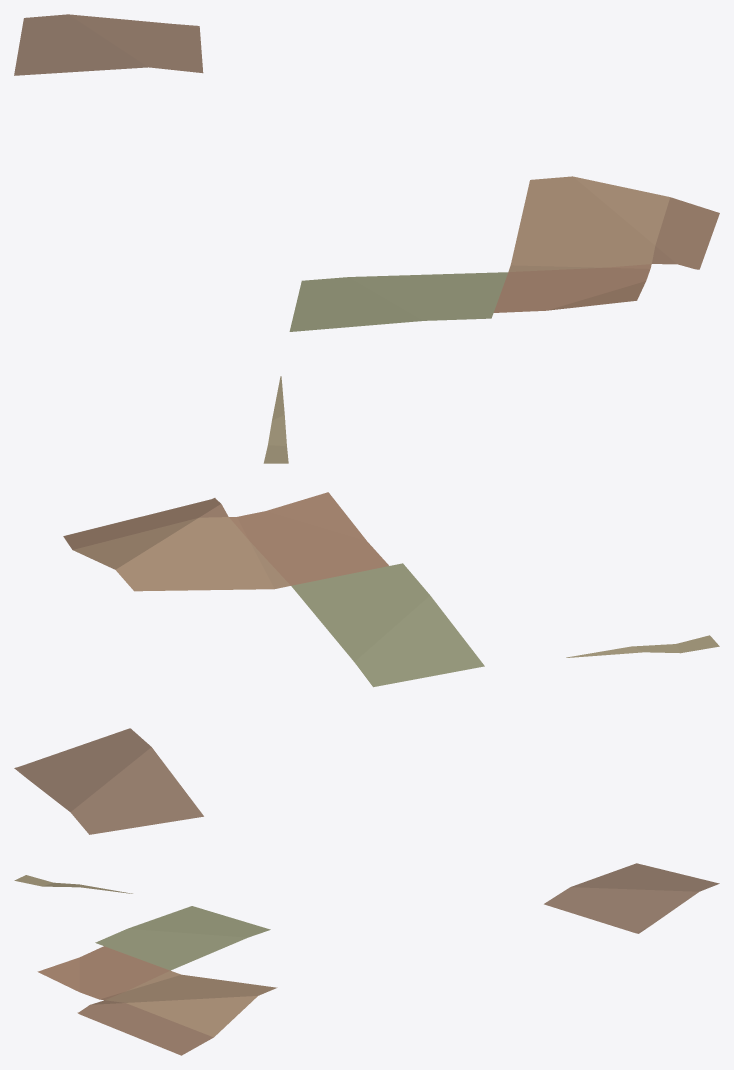
The model's file is farm_-1_17_soil.glb.
3 renders of one model, top to bottom at view 1: azimuth 30°, elevation 25°; view 2: azimuth 150°, elevation 25°; view 3: azimuth 270°, elevation 25°, orthographic. The views are drawn at different scales.
Parts seen in each view (by area): view 1: geometry_0; view 2: geometry_0; view 3: geometry_0.
Boxes of the visible parts, x1,y1,x2,y2 form: geometry_0: (14, 14, 719, 463); geometry_0: (14, 492, 719, 834); geometry_0: (14, 863, 719, 1055).
Size of the model in its own units: 192 by 31.21 by 265.
